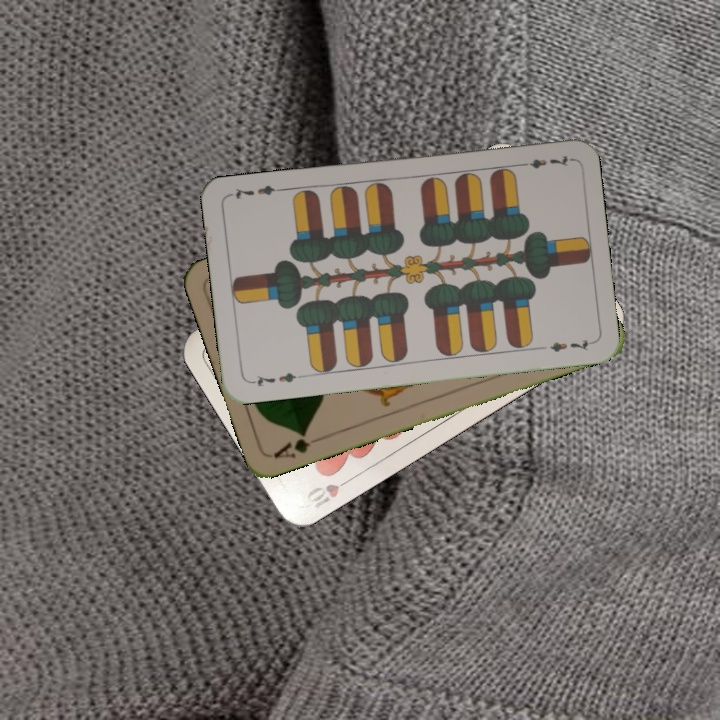E7: (246, 368, 306, 390), (514, 151, 573, 172)
GA: (269, 428, 327, 462)
H10: (302, 473, 355, 511)
